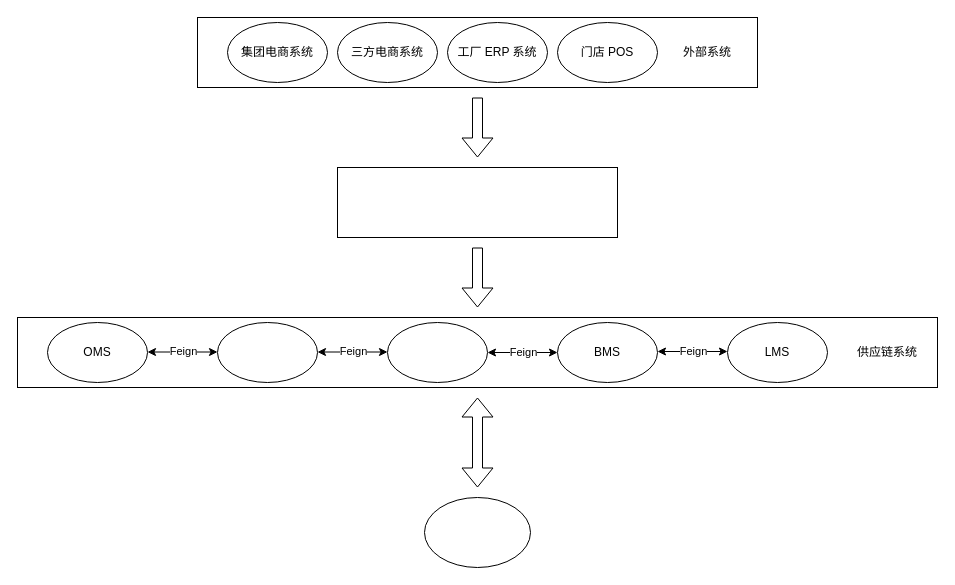
The diagram is 955 pixels wide and 585 high, and some of its shapes have lost their labels. The shapes that lost their labels are listed below. From the top down, each one's centre as x and y in pixels, then its label:
At point 477,202: "DOP/接口平台".
At point 267,352: "WMS".
At point 437,352: "TMS".
At point 477,532: "消息中心".
